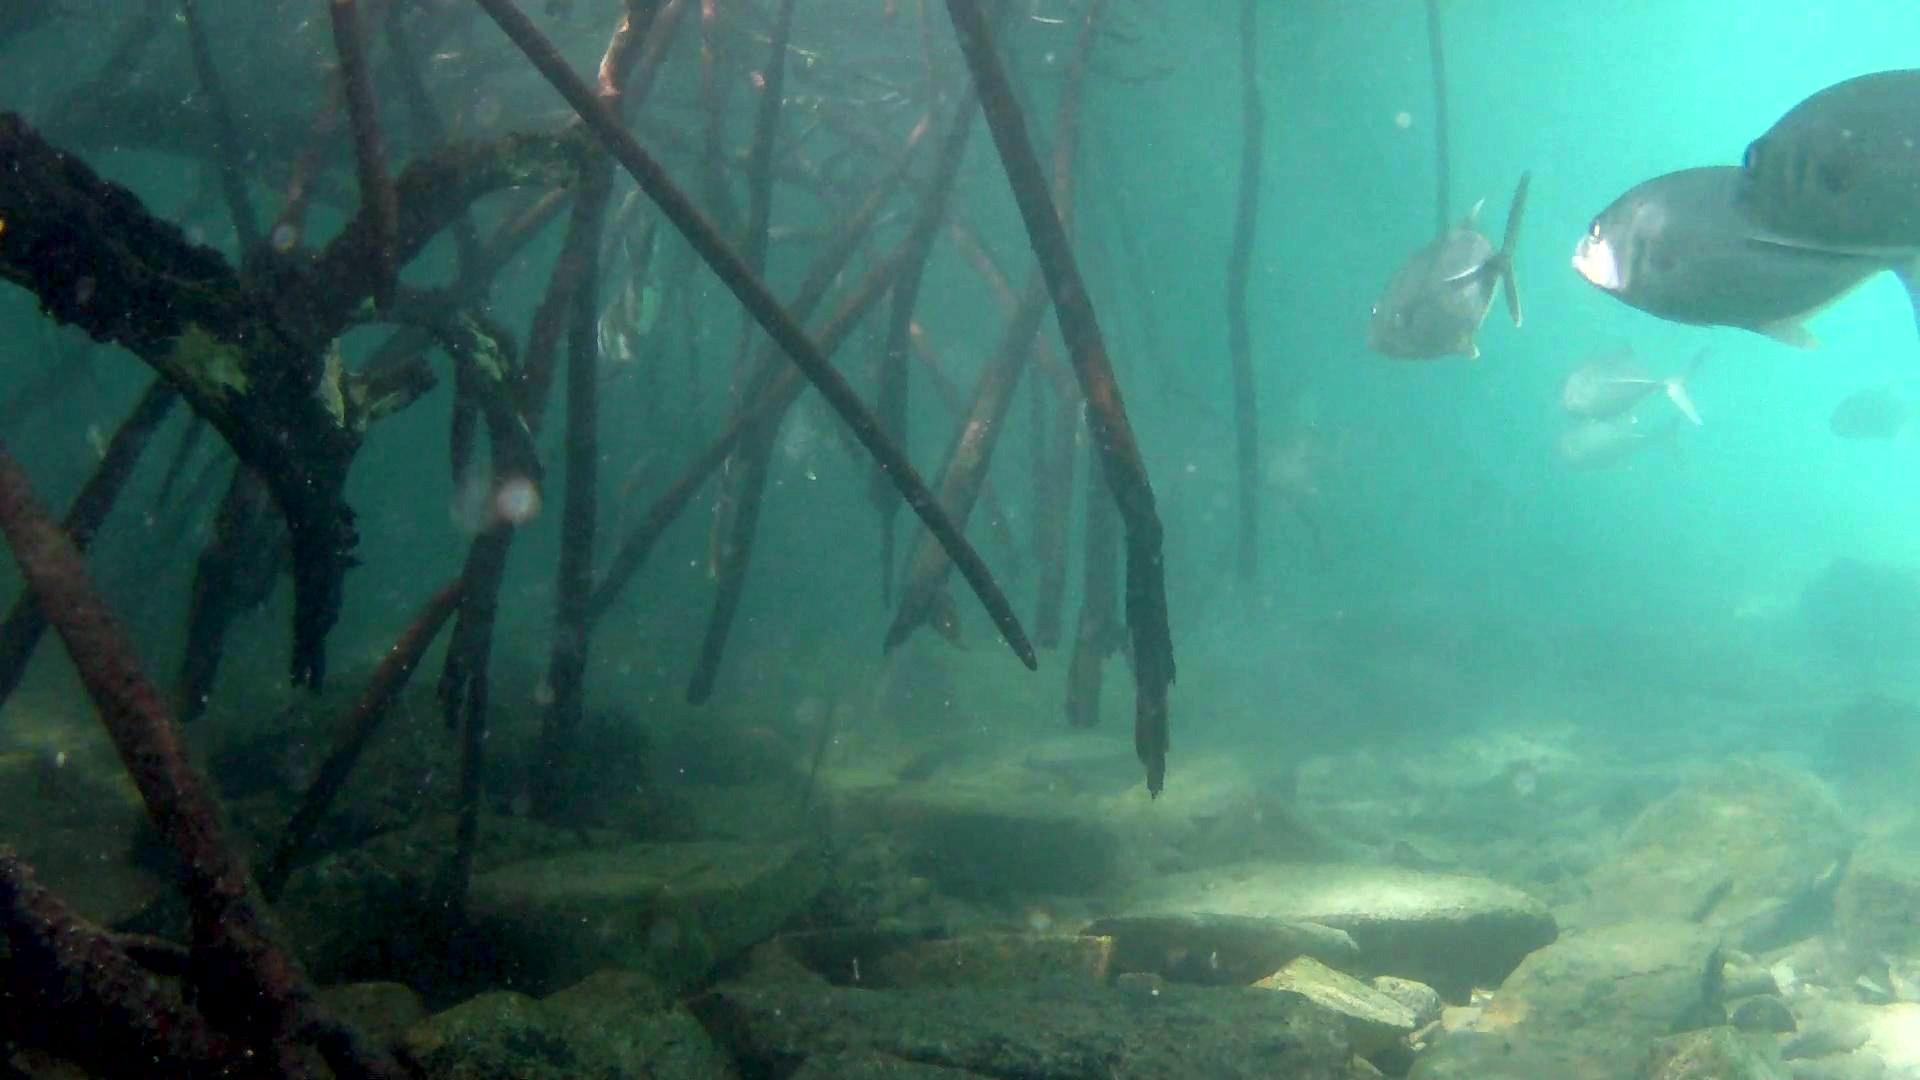caranx: (1561, 148, 1920, 357), (1710, 50, 1920, 274), (1344, 156, 1547, 377)
